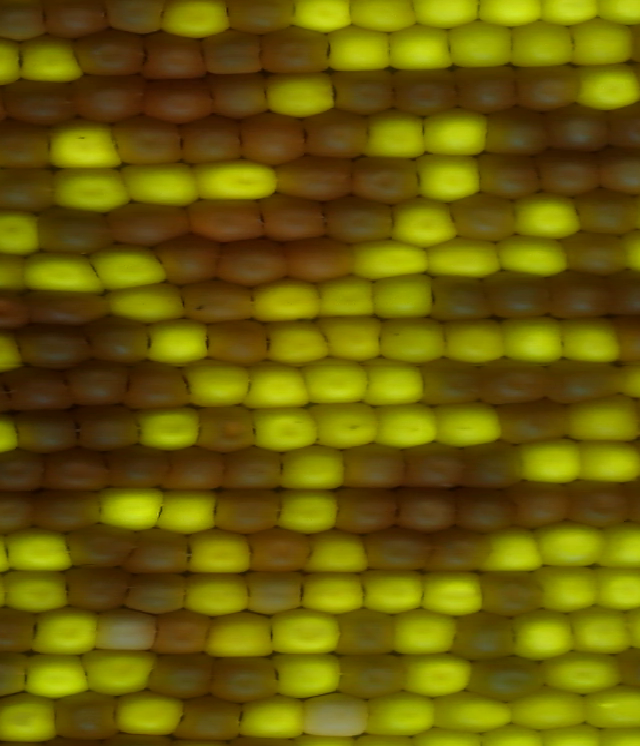fluorescent: (359, 107, 437, 166), (511, 183, 583, 241), (43, 123, 125, 172), (190, 161, 283, 203), (22, 249, 101, 298), (346, 235, 432, 280), (123, 161, 202, 209), (432, 692, 520, 734), (486, 233, 568, 278), (380, 399, 447, 454), (565, 397, 640, 446), (277, 606, 349, 657), (569, 13, 632, 71), (418, 570, 488, 622), (52, 166, 131, 212), (537, 562, 604, 616), (512, 437, 580, 490), (547, 651, 627, 696), (423, 107, 486, 164), (273, 492, 346, 541), (259, 320, 331, 369), (495, 314, 562, 366), (556, 314, 623, 366), (375, 317, 446, 366), (268, 70, 337, 120), (539, 523, 609, 572), (111, 688, 181, 737), (183, 357, 251, 407), (16, 30, 80, 83), (5, 571, 74, 620), (180, 571, 253, 617), (183, 530, 253, 577), (444, 24, 515, 70), (207, 611, 272, 661), (426, 235, 501, 278), (7, 525, 70, 576), (33, 606, 96, 657), (104, 281, 186, 320), (367, 276, 435, 323), (280, 443, 346, 491), (306, 533, 378, 577), (418, 154, 484, 201), (509, 687, 581, 730), (432, 404, 502, 448), (247, 362, 307, 413), (572, 438, 640, 483), (488, 524, 548, 575), (252, 280, 323, 323), (393, 23, 456, 71), (441, 319, 504, 367), (406, 653, 469, 701), (85, 651, 157, 693), (360, 361, 427, 406), (306, 357, 367, 406), (162, 487, 218, 540), (395, 609, 453, 660), (573, 609, 631, 660), (100, 243, 167, 287), (511, 612, 572, 660), (141, 408, 206, 453), (331, 25, 394, 71), (363, 696, 437, 735), (258, 406, 318, 454), (515, 23, 580, 67), (307, 576, 372, 620), (22, 656, 90, 698), (315, 406, 381, 449), (364, 565, 423, 613), (241, 699, 305, 743), (275, 654, 342, 696), (98, 486, 160, 530), (160, 4, 239, 38), (577, 685, 640, 727), (578, 64, 638, 108), (0, 697, 56, 744), (151, 320, 209, 362), (322, 276, 373, 323), (289, 1, 354, 37), (405, 201, 457, 246), (326, 317, 375, 361), (353, 1, 420, 33), (480, 1, 543, 34), (0, 208, 39, 260), (418, 3, 483, 33), (599, 567, 640, 612), (605, 519, 640, 570)
nonfluorescent: (458, 657, 553, 702), (72, 72, 154, 122), (205, 653, 281, 706), (185, 202, 267, 251), (260, 187, 328, 246), (57, 687, 126, 745), (493, 266, 558, 327), (142, 28, 214, 83), (239, 111, 309, 166), (215, 235, 288, 287), (462, 62, 525, 122), (102, 204, 198, 243), (333, 649, 411, 697), (330, 65, 400, 118), (294, 112, 369, 161), (172, 696, 247, 745), (205, 30, 277, 81), (391, 67, 463, 118), (357, 529, 435, 576), (257, 29, 333, 77), (281, 235, 360, 281), (351, 157, 423, 207), (278, 156, 354, 203), (456, 611, 523, 664), (331, 607, 402, 657), (18, 286, 109, 325), (37, 204, 112, 251), (548, 354, 623, 401), (70, 33, 149, 77), (447, 195, 526, 239), (0, 78, 75, 124), (570, 478, 632, 533), (247, 524, 318, 572), (546, 103, 614, 153), (142, 606, 210, 656), (330, 195, 398, 244), (486, 106, 548, 159), (144, 75, 217, 120), (11, 369, 78, 418), (117, 118, 185, 166), (475, 151, 543, 199), (562, 233, 630, 281), (20, 324, 88, 372), (458, 483, 522, 534), (160, 238, 225, 288), (70, 356, 128, 412), (204, 317, 270, 366), (507, 480, 573, 529), (481, 567, 547, 616), (36, 488, 106, 534), (83, 319, 154, 364), (127, 360, 193, 408), (406, 441, 469, 491), (68, 564, 131, 614), (542, 151, 604, 201), (181, 113, 244, 162), (430, 275, 493, 324), (343, 446, 410, 492), (126, 528, 193, 574), (226, 445, 281, 501), (417, 359, 485, 404), (244, 571, 307, 619), (196, 403, 256, 453), (575, 191, 640, 237), (333, 490, 399, 535), (152, 656, 218, 701), (520, 62, 577, 114), (481, 361, 549, 404), (68, 525, 133, 569), (183, 278, 251, 320), (551, 271, 607, 322), (94, 607, 154, 654), (212, 490, 278, 532), (127, 572, 190, 616), (54, 448, 115, 493), (509, 403, 572, 446), (0, 120, 54, 170), (168, 444, 222, 493), (205, 80, 272, 119), (111, 445, 169, 490), (430, 533, 493, 571), (0, 448, 49, 496), (0, 170, 53, 214), (17, 416, 79, 453), (401, 492, 458, 532), (80, 407, 137, 446), (231, 1, 296, 34), (46, 1, 109, 34), (0, 4, 48, 45), (606, 262, 640, 316), (469, 443, 523, 477), (602, 150, 640, 197), (0, 496, 46, 533), (0, 607, 36, 651), (105, 1, 158, 30), (605, 106, 640, 149), (0, 287, 31, 332)
